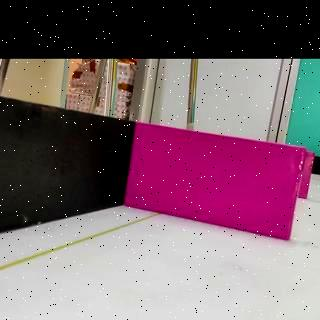xparking: (125, 125, 304, 239), (298, 150, 315, 199)
